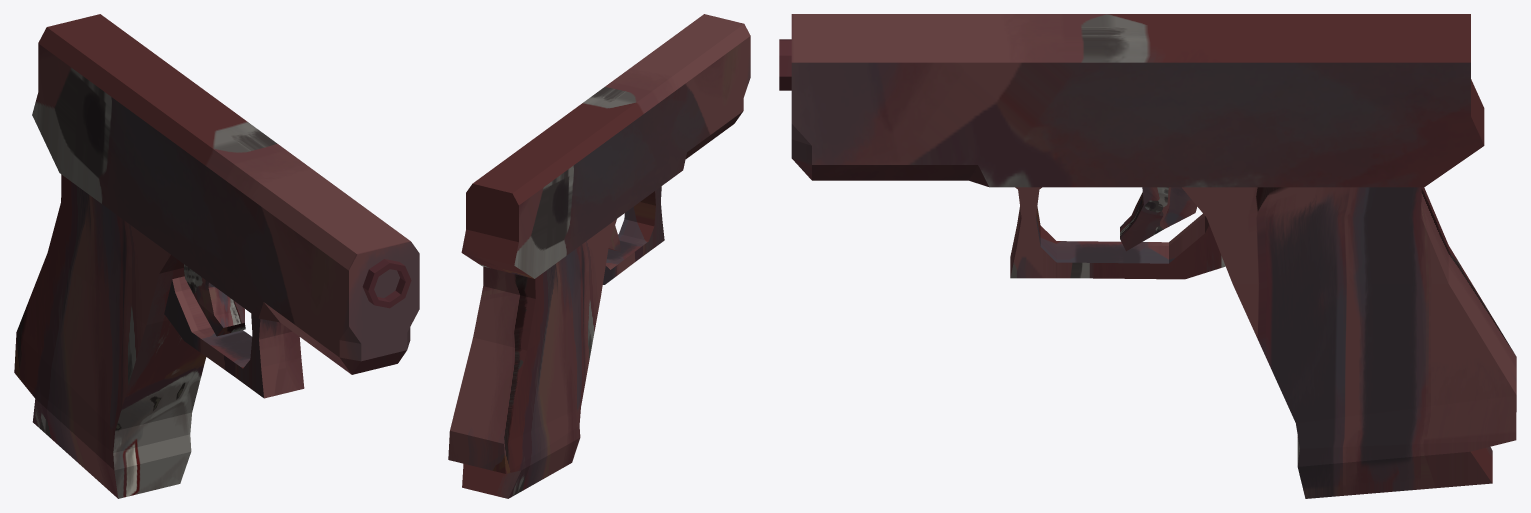
File: gun.fbx
3 views of the same model, side by side, from view 1: azimuth 30°, elevation 25°; view 2: azimuth 150°, elevation 25°; view 3: azimuth 270°, elevation 25° (orthographic). The views are drawn at different scales.
Parts seen in each view (by area): view 1: gun; view 2: gun; view 3: gun.
Part boxes in pixels (<box>): gun: <box>14,14,419,498</box>; gun: <box>448,14,750,498</box>; gun: <box>779,14,1516,498</box>.
Size of the model in its own units: 24.71 by 127 by 187.
